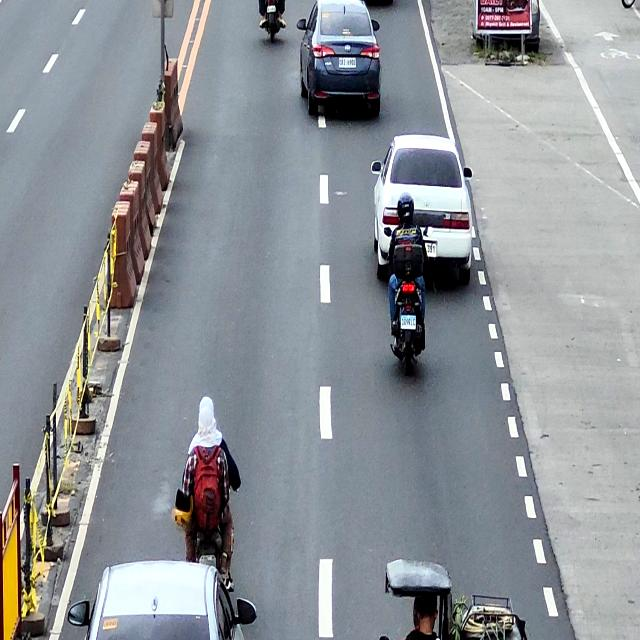Car: (372, 135, 474, 284), (66, 561, 258, 640), (296, 0, 381, 114)
License-Plate: (198, 556, 217, 570), (423, 242, 438, 258), (338, 56, 357, 68), (401, 316, 416, 330), (266, 5, 277, 13)
Motorcycle: (383, 225, 432, 377), (181, 462, 233, 583), (259, 0, 285, 46)
Tricycle: (377, 559, 527, 640)
